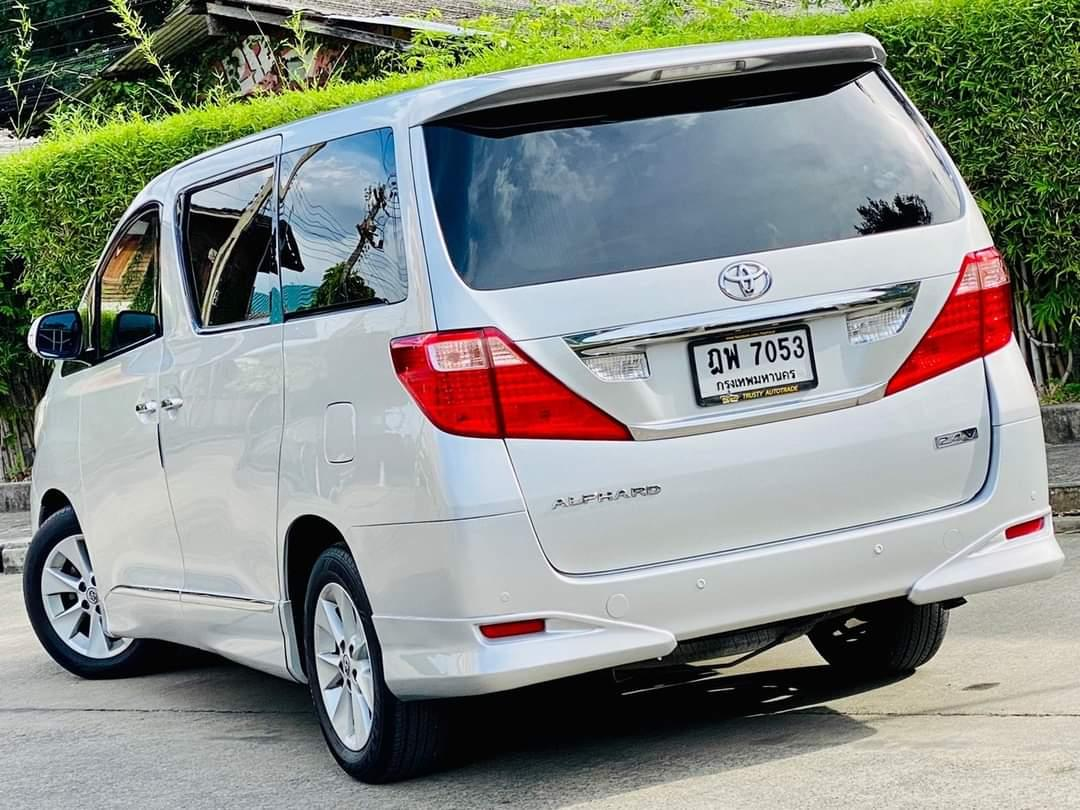license-plate: (685, 317, 822, 408)
